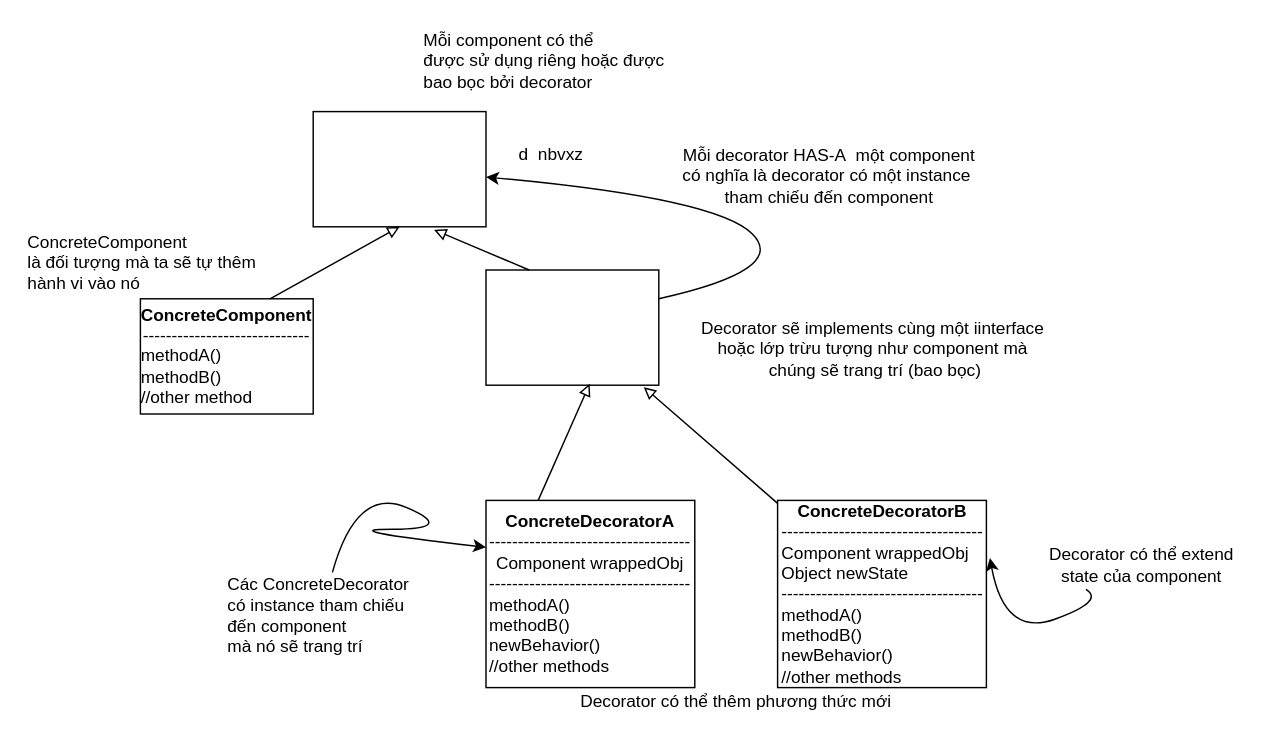
This 1266x740 diagram has some shape labels left out. The centre of each missing label's shape, as x and y in pixels:
"Component ----------------------------- methodA() methodB() //other method" belongs at (399,168).
"Decorator ----------------------------- methodA() methodB() //other method" belongs at (572,327).
